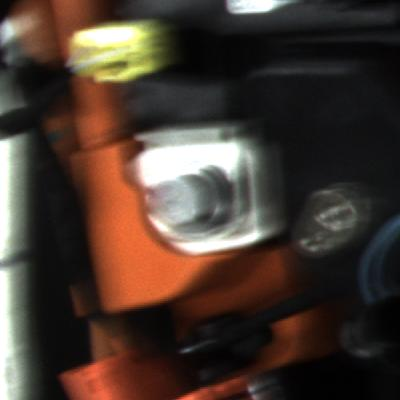nut_b: (147, 162, 239, 247)
